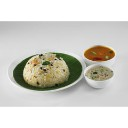venpongal: (23, 54, 68, 87)
